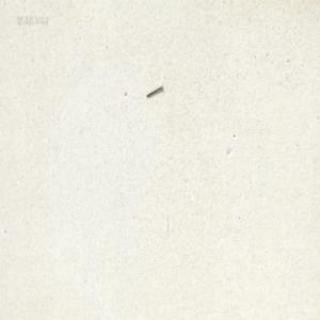Bolttrack_idkeyframe: (144, 83, 162, 96)
